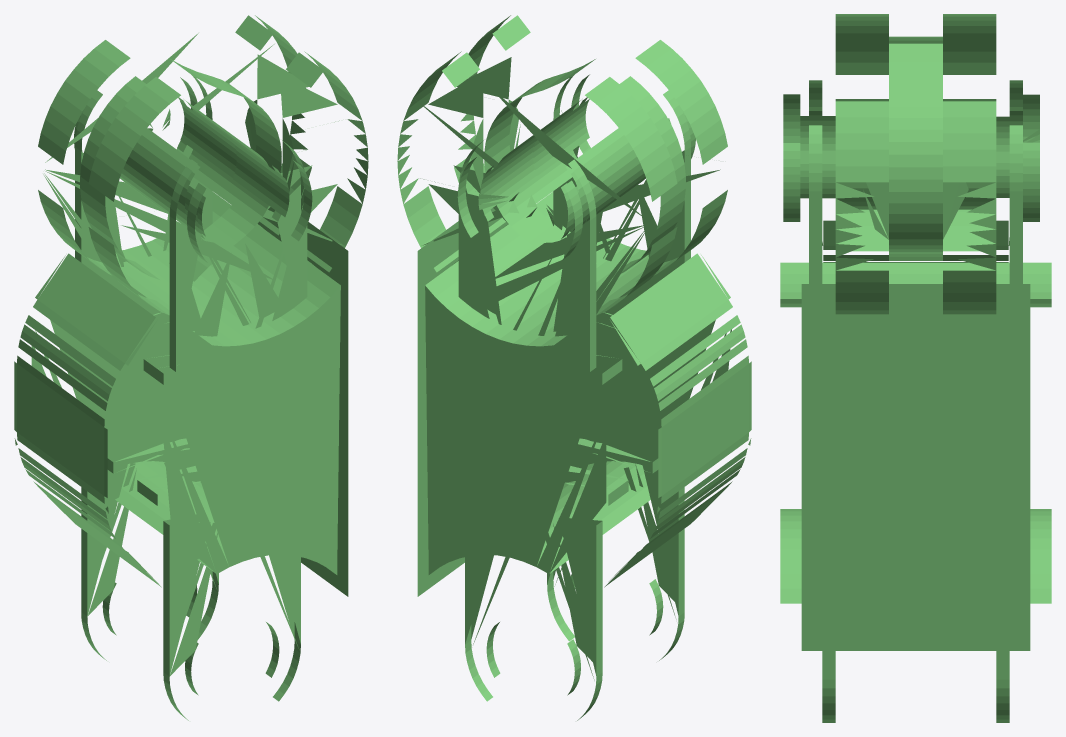
File: H2R3_finger_knuckle2.dae
3 views of the same model, side by side, from view 1: azimuth 30°, elevation 25°; view 2: azimuth 150°, elevation 25°; view 3: azimuth 270°, elevation 25° (orthographic). The views are drawn at different scales.
Visible parts, largest first — view 1: H2R3_finger_knuckle2; view 2: H2R3_finger_knuckle2; view 3: H2R3_finger_knuckle2.
Part boxes in pixels (left/top/right/bottom): H2R3_finger_knuckle2: left=14, top=15, right=368, bottom=720; H2R3_finger_knuckle2: left=397, top=15, right=751, bottom=720; H2R3_finger_knuckle2: left=780, top=14, right=1051, bottom=722.
Bounding box in the file's own units: 0.0196 × 0.0161 × 0.0432.
